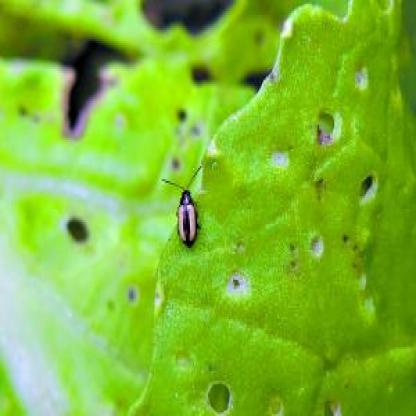beetle: (159, 170, 212, 251)
